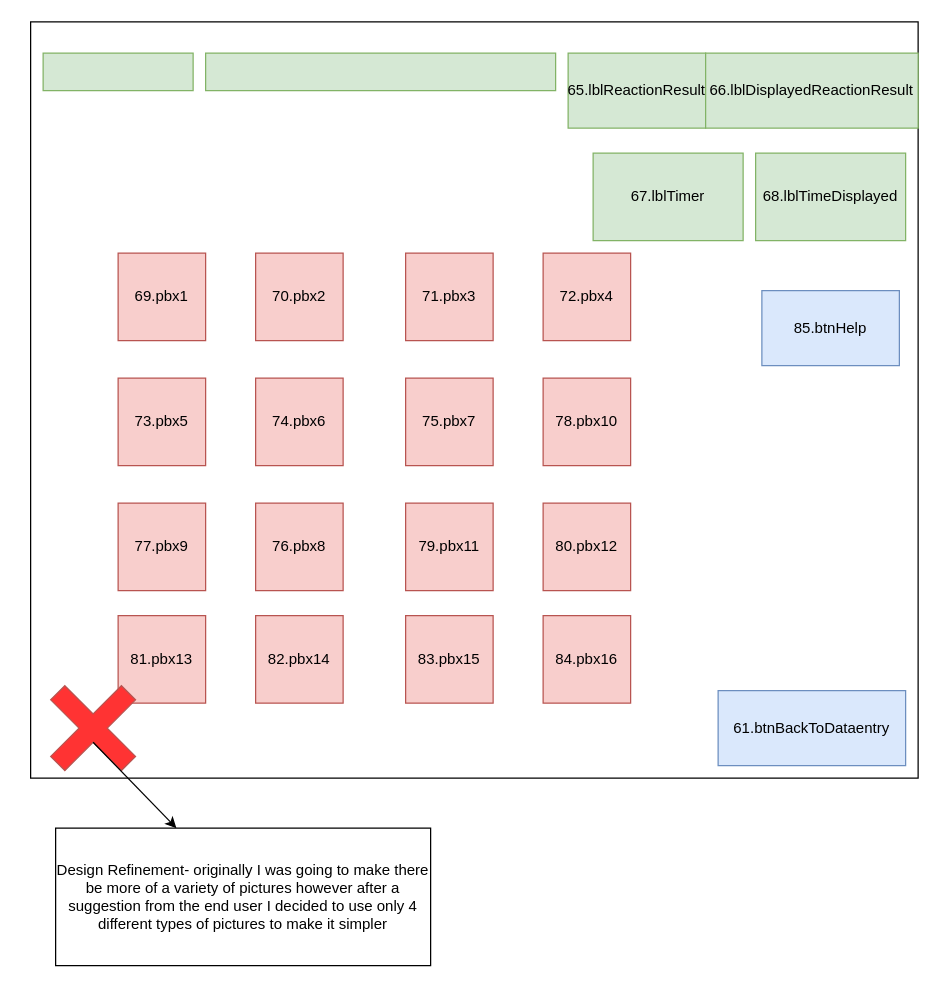
Image size: 940x988. Some labels were removed from this diagram. The shapes that lost their labels are listed below. From the top down, each one's box as (x1, y1, x2, y2) in pixels, then its label:
(42, 52, 193, 91): 63.lblReactionTest
(204, 52, 556, 91): 64.lblTask
